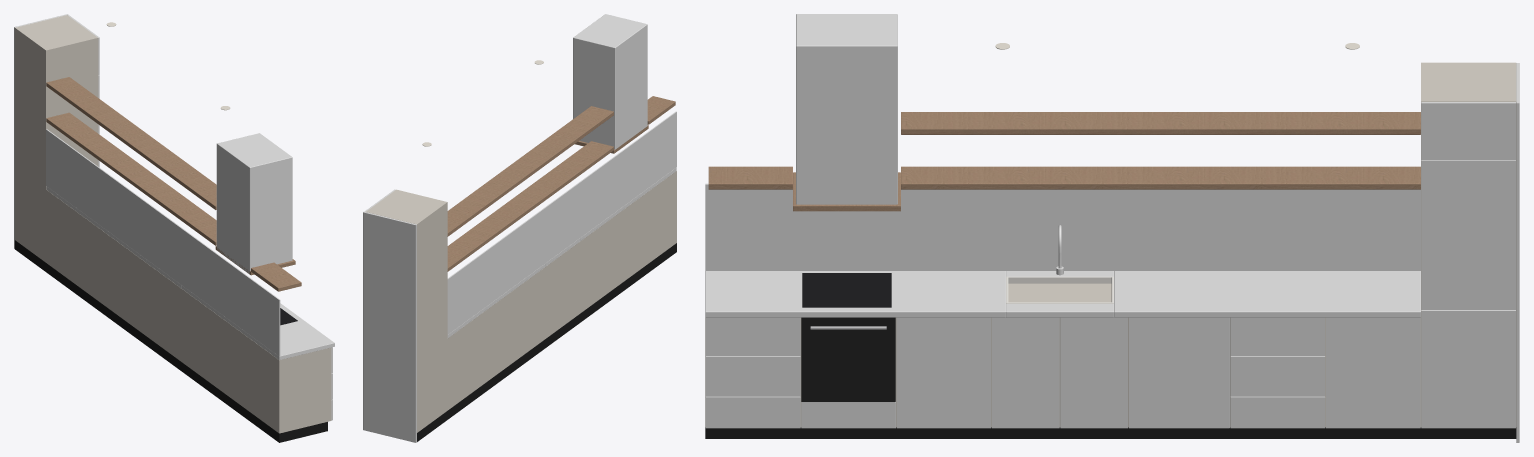
File: kitchen__2_3.glb
3 renders of one model, left to right at view 1: azimuth 30°, elevation 25°; view 2: azimuth 150°, elevation 25°; view 3: azimuth 270°, elevation 25°, orthographic. The views are drawn at different scales.
Visible parts, largest first — view 1: carcass, splashback, tall carcass, open shelves, hood, plinth, worktop, fronts; view 2: carcass, splashback, fridge end panel, open shelves, hood, tall carcass, plinth, worktop; view 3: fronts, splashback, worktop, open shelves, hood, plinth, oven, tall carcass, carcass, hob, fridge end panel, sink (+1 smaller).
Boxes of the visible parts, x1,y1,x2,y2 form: carcass: [46, 189, 331, 433]; splashback: [46, 129, 280, 356]; tall carcass: [15, 15, 98, 262]; open shelves: [46, 77, 301, 291]; hood: [216, 133, 292, 273]; plinth: [15, 240, 327, 442]; worktop: [46, 186, 334, 359]; fronts: [68, 15, 332, 420]; carcass: [447, 171, 676, 410]; splashback: [447, 111, 676, 334]; fridge end panel: [363, 211, 416, 442]; open shelves: [447, 96, 675, 271]; hood: [573, 14, 647, 149]; tall carcass: [366, 189, 447, 432]; plinth: [417, 243, 676, 441]; worktop: [447, 167, 676, 337]; fronts: [705, 102, 1515, 428]; splashback: [705, 183, 1420, 270]; worktop: [705, 271, 1420, 317]; open shelves: [708, 112, 1420, 189]; hood: [796, 14, 897, 204]; plinth: [705, 427, 1516, 438]; oven: [801, 317, 895, 402]; tall carcass: [1421, 62, 1516, 426]; carcass: [705, 283, 1420, 427]; hob: [802, 273, 891, 307]; fridge end panel: [1516, 63, 1519, 442]; sink: [1006, 276, 1113, 303].
Size of the model in its own units: 0.63 by 2.7 by 5.12.
Materials: 14 (1 with a texture image).
